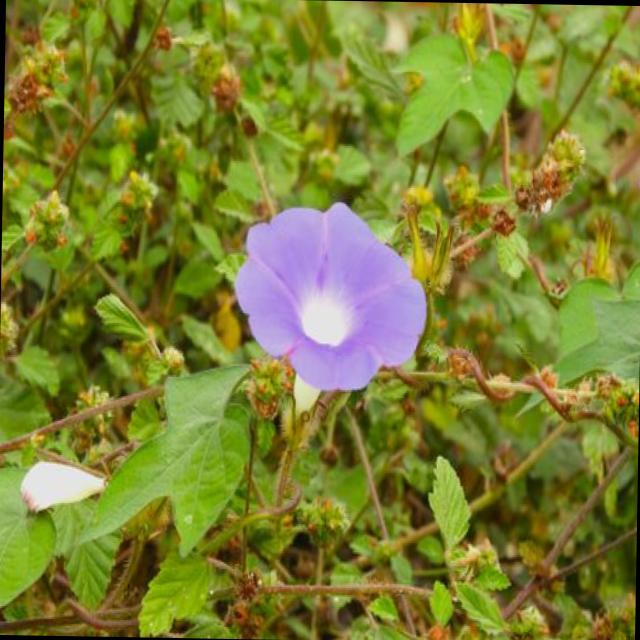ipomoea: (228, 196, 431, 400)
